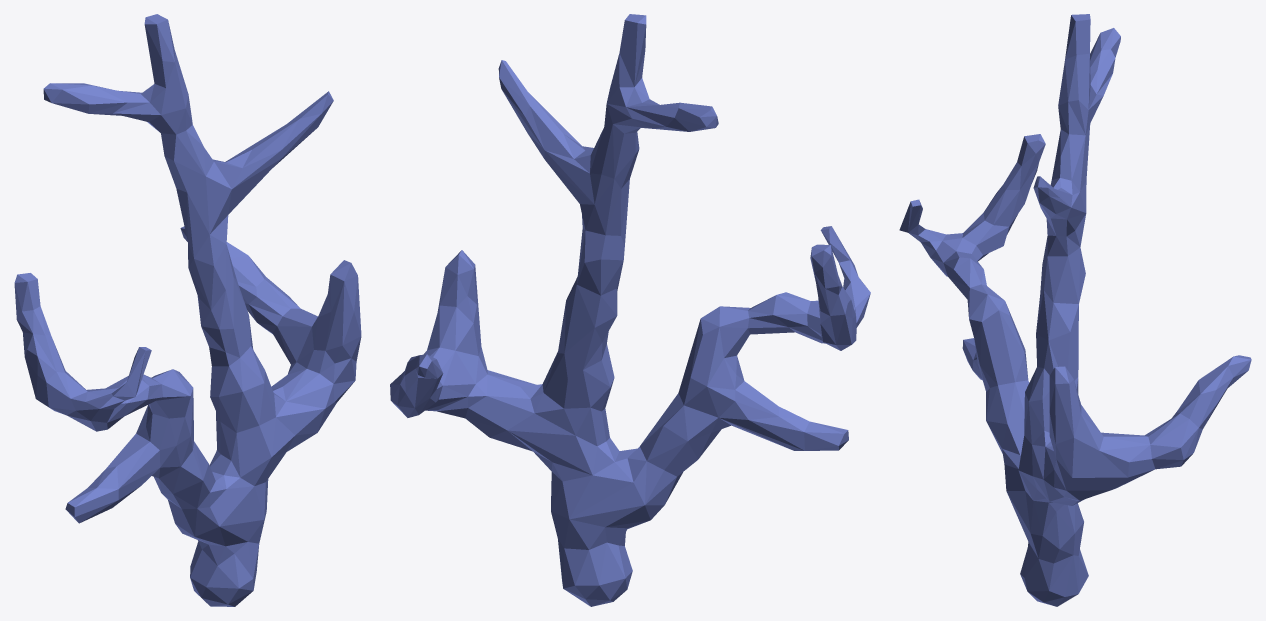
The model's file is coral_2.glb.
The picture shows the model from 3 angles, left to right: view 1: azimuth 30°, elevation 25°; view 2: azimuth 150°, elevation 25°; view 3: azimuth 270°, elevation 25°; orthographic projection. The views are drawn at different scales.
Parts seen in each view (by area): view 1: Coral.002; view 2: Coral.002; view 3: Coral.002.
Boxes of the visible parts, x1,y1,x2,y2 form: Coral.002: [14, 14, 361, 606]; Coral.002: [390, 14, 870, 606]; Coral.002: [899, 14, 1251, 606].
Size of the model in its own units: 34.95 by 53.92 by 30.6.
